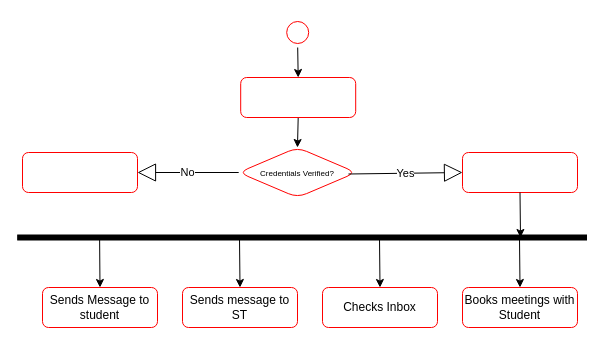
Image size: 604x345. Some labels were removed from this diagram. The centre of each missing label's shape, as x and y in pixels:
Proceeds to application: (520,172)
PS Logs in with personal credientials: (298,97)
PS Re-enters Credentials: (80,172)
